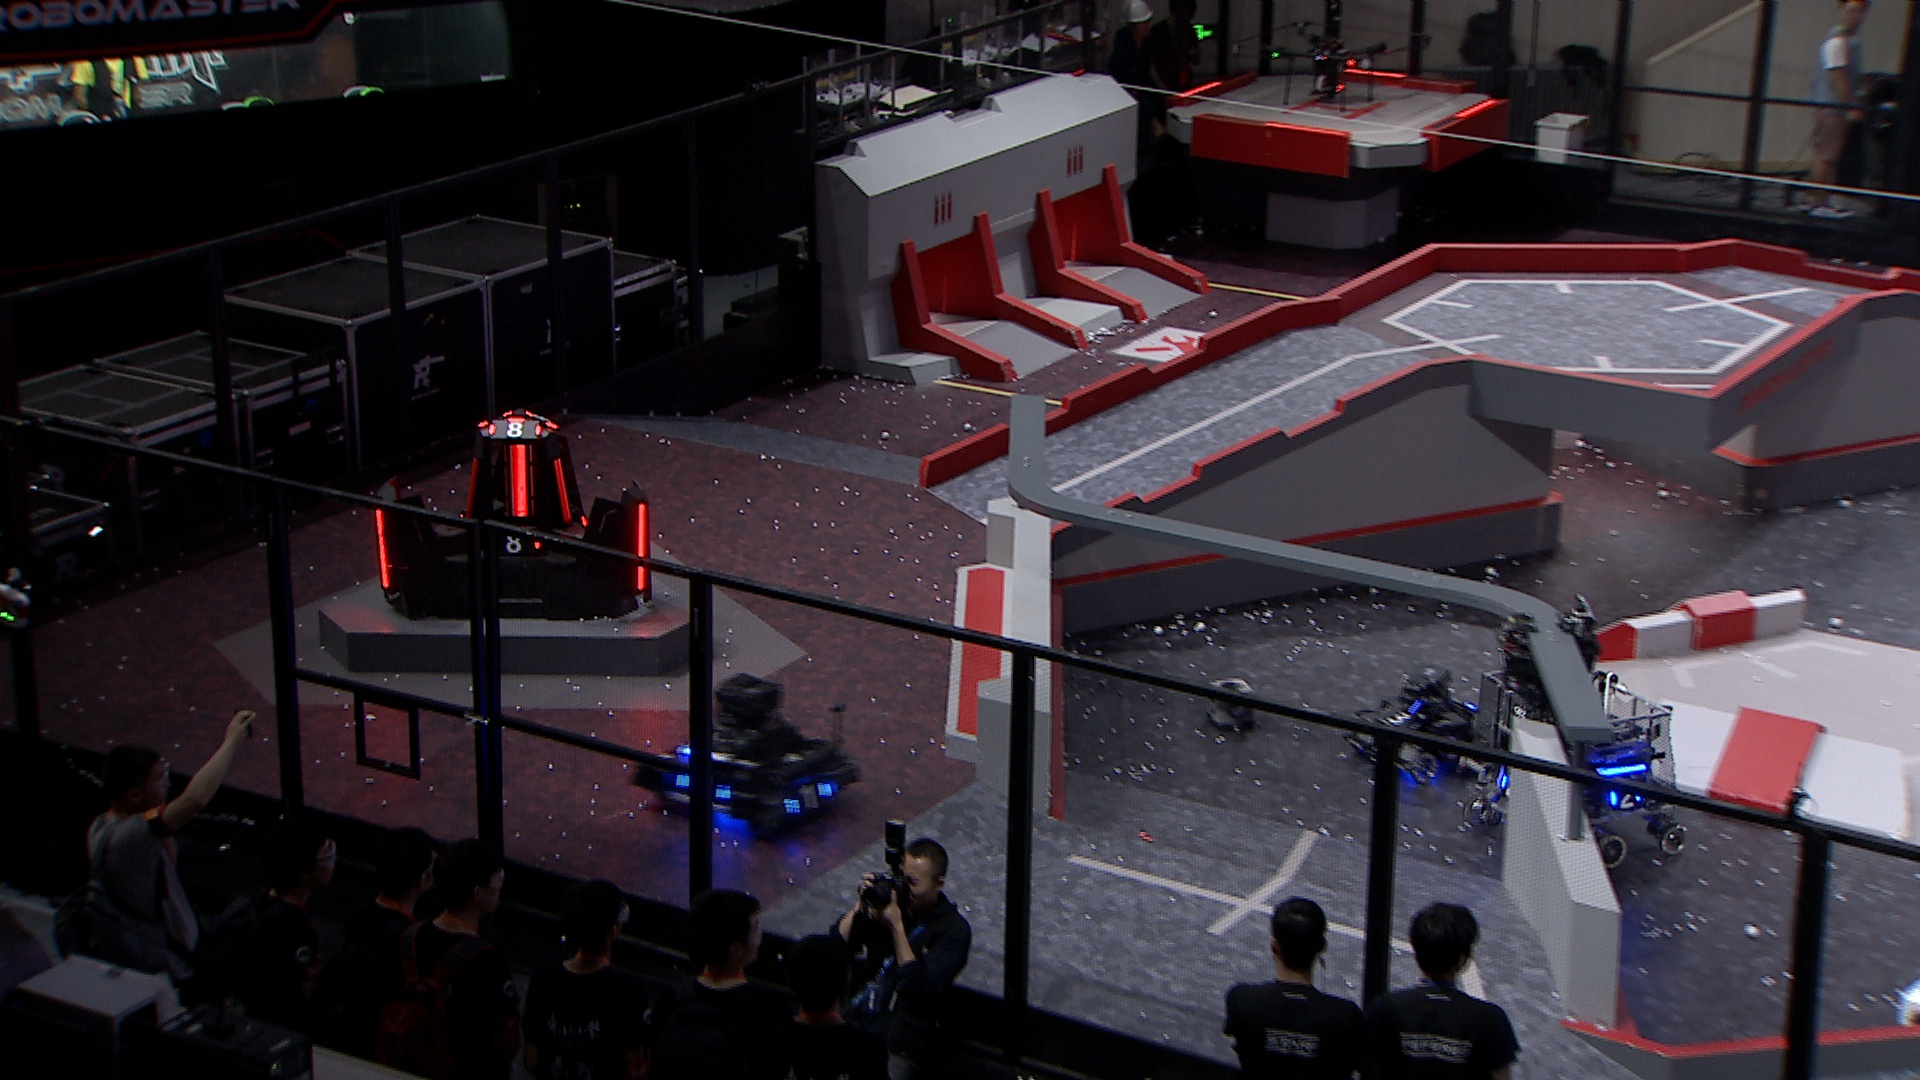armor: (629, 498, 654, 595), (785, 778, 839, 818), (479, 524, 543, 555), (506, 443, 533, 520), (551, 452, 578, 527), (371, 506, 392, 593), (460, 448, 485, 516), (483, 417, 549, 442), (1605, 781, 1646, 811), (1375, 704, 1418, 733)
base: (367, 409, 657, 622)
car: (1466, 659, 1692, 876), (622, 669, 866, 841), (1344, 659, 1493, 783)
watcher: (1493, 593, 1605, 725)
